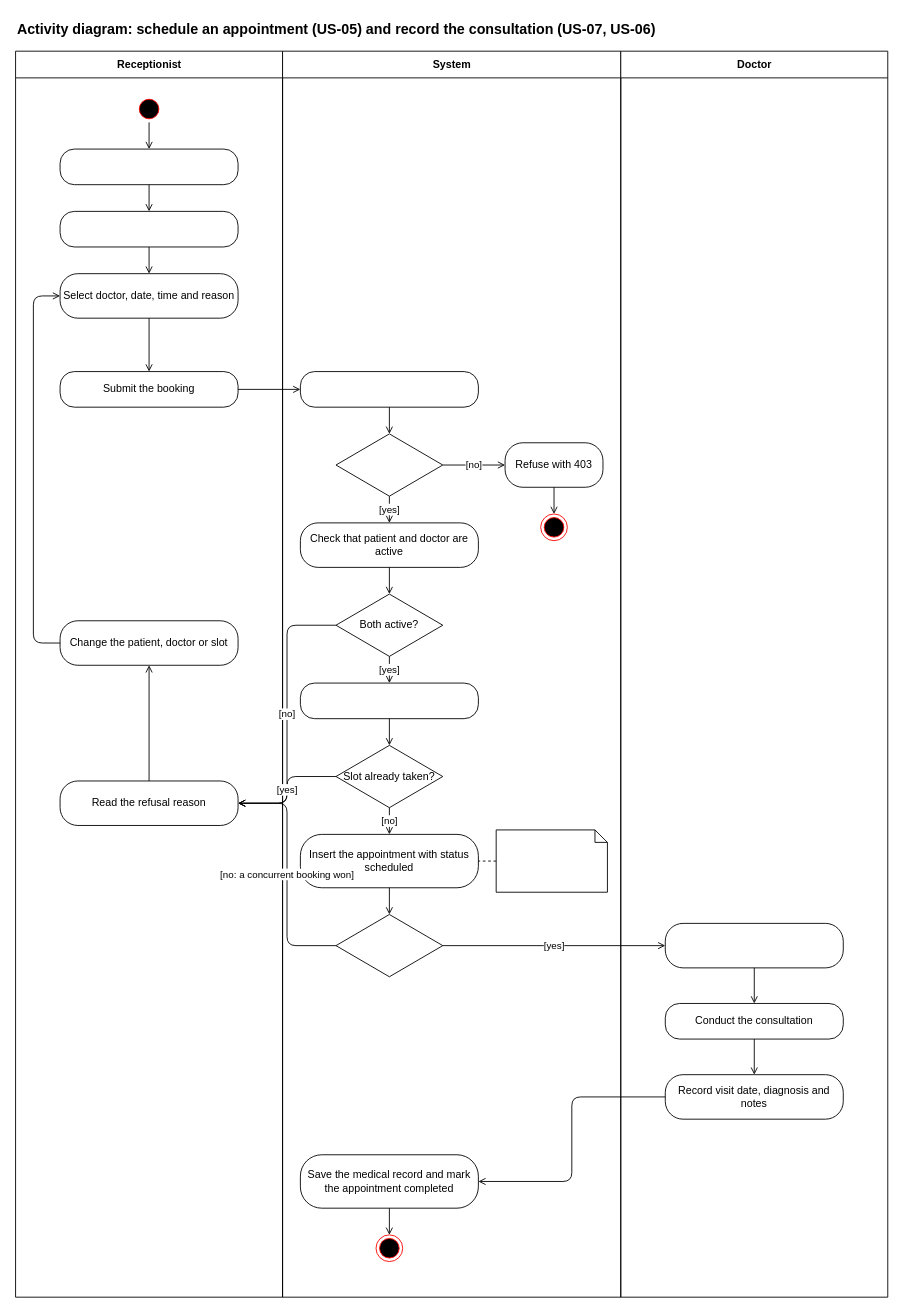
Some shapes in this 903 by 1313 pixel diagram are drawn without their labels. Each missing label, with the centre of its shape:
"Check that the role may book" belongs at point 388,389.
"Check the doctor's slot" belongs at point 388,700.
"Insert succeeded?" belongs at point 389,945.
"Log in" belongs at point 148,166.
"Role permitted?" belongs at point 389,464.
"Search for the patient" belongs at point 148,228.
"See the appointment in my list" belongs at point 753,945.
"Unique index on (doctor, slot start) where status = scheduled" belongs at point 551,860.
